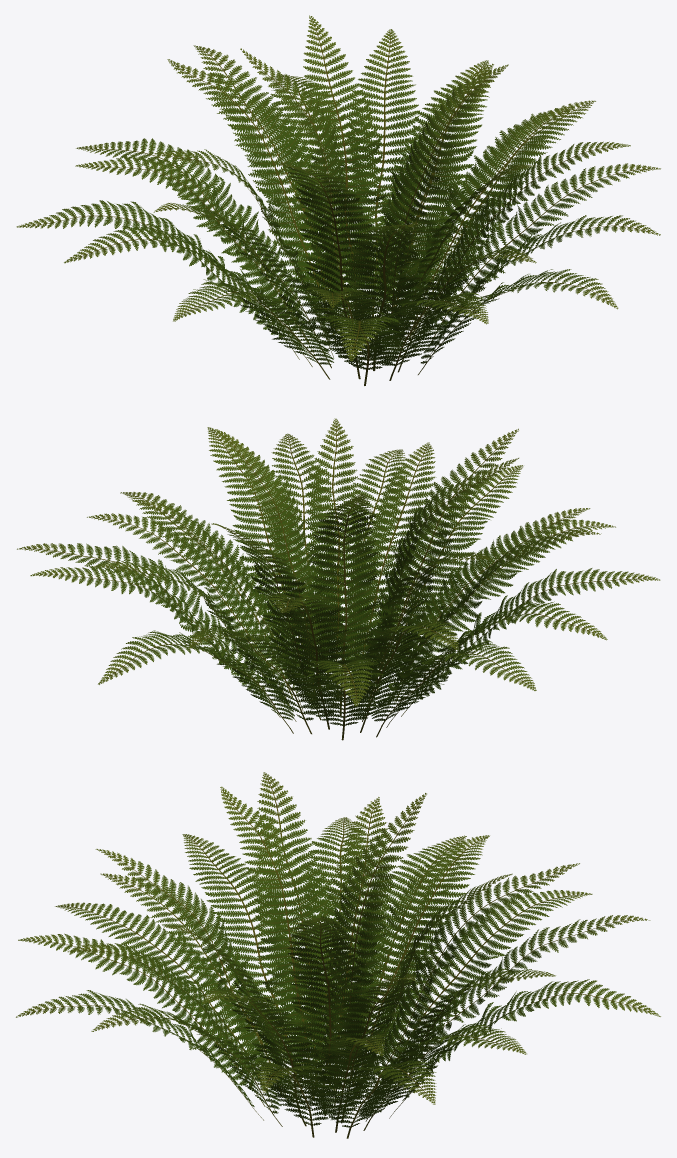
File: matteuccia_struthiopteris_c001.gltf
The picture shows the model from 3 angles, top to bottom: view 1: azimuth 30°, elevation 25°; view 2: azimuth 150°, elevation 25°; view 3: azimuth 270°, elevation 25°; orthographic projection. The views are drawn at different scales.
Visible parts, largest first — view 1: Matteuccia_struthiopteris__C001; view 2: Matteuccia_struthiopteris__C001; view 3: Matteuccia_struthiopteris__C001.
Boxes of the visible parts, box(x1,y1,x2,y2) form: Matteuccia_struthiopteris__C001: box(16, 15, 660, 385); Matteuccia_struthiopteris__C001: box(17, 418, 660, 740); Matteuccia_struthiopteris__C001: box(16, 772, 660, 1138).
Bounding box in the file's own units: 1.83 × 0.8827 × 1.81.
1 material, 1 textured.
